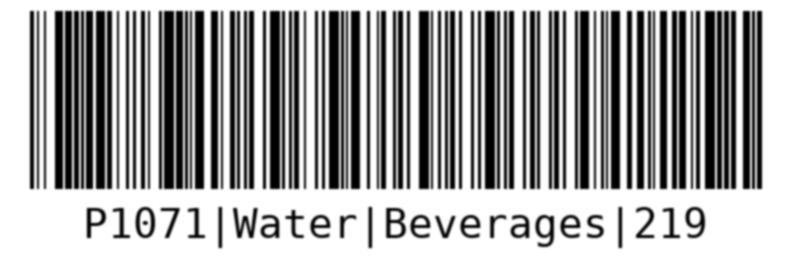milk: (23, 7, 769, 248)
